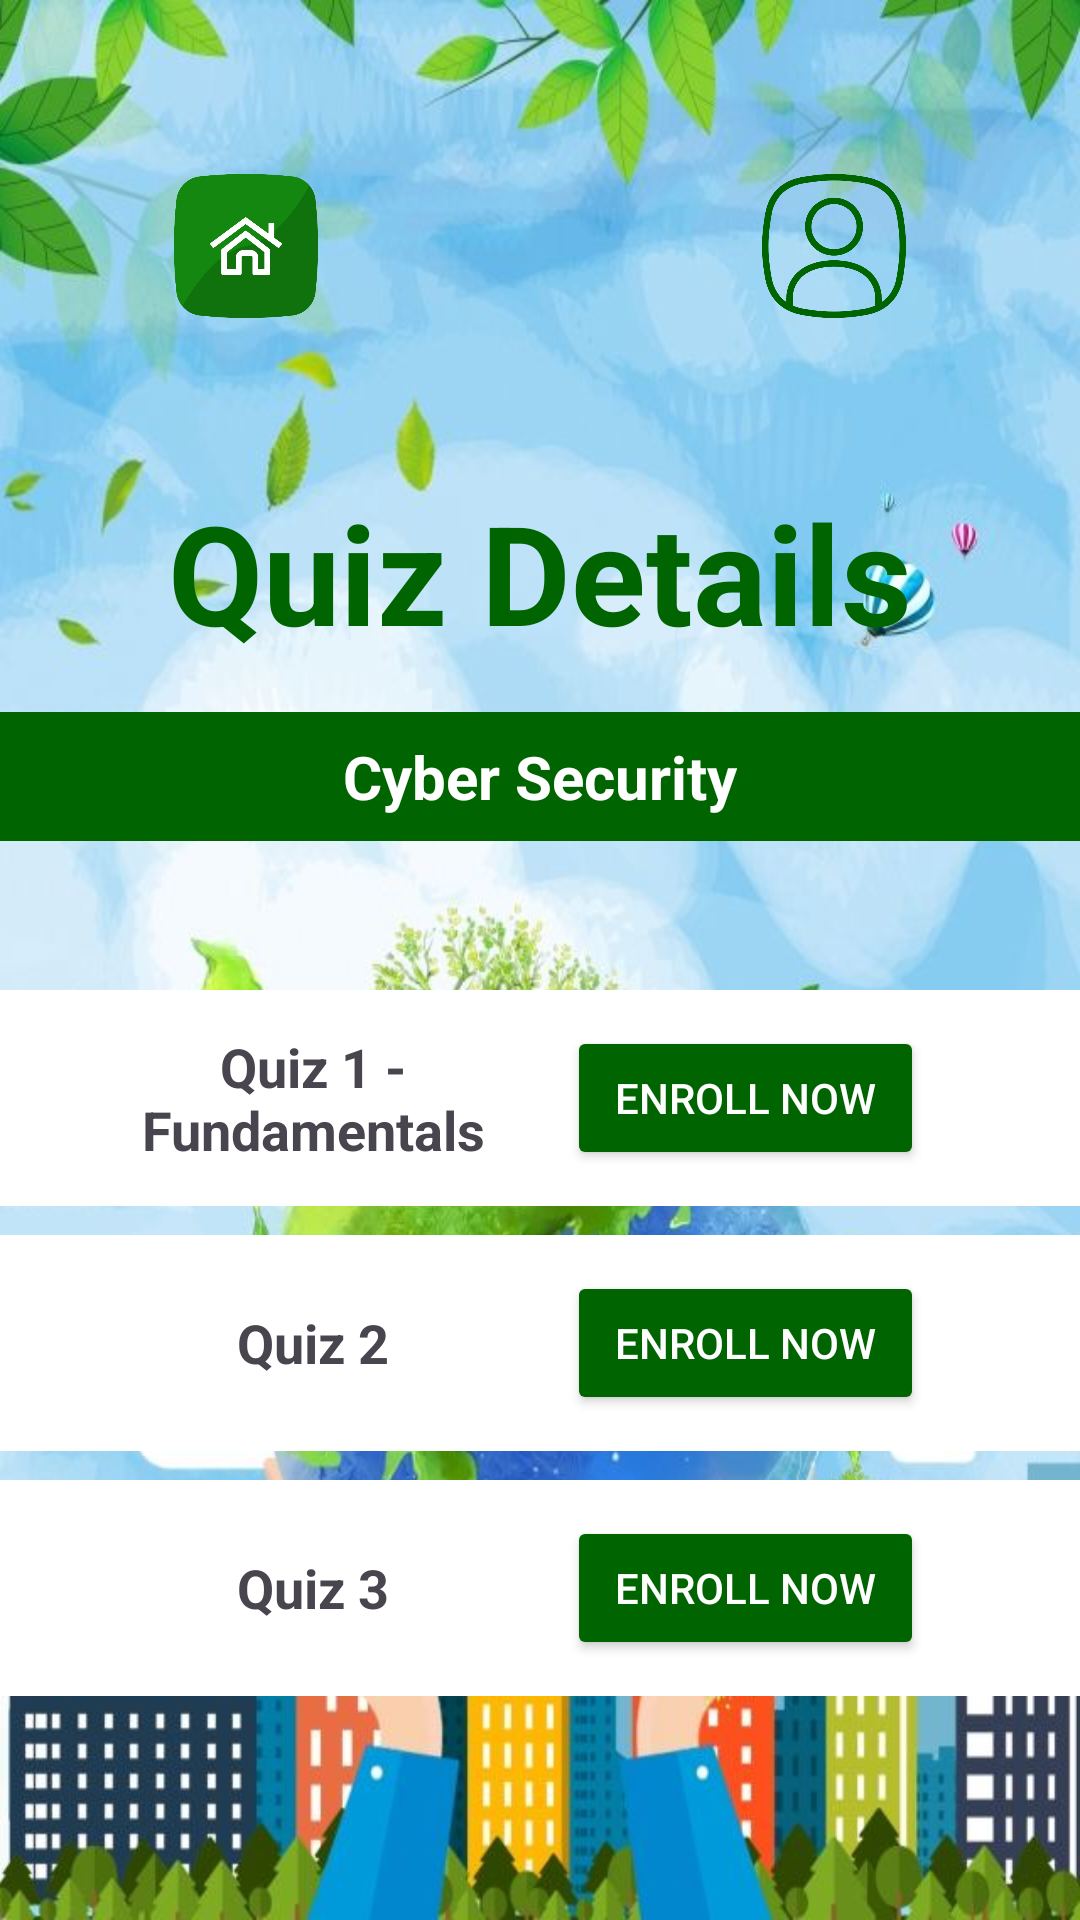

Named icons in this screenshot (1080 × 1920) and their centers, (x,y):
Home Icon: (246,246)
Profile Icon: (834,246)
